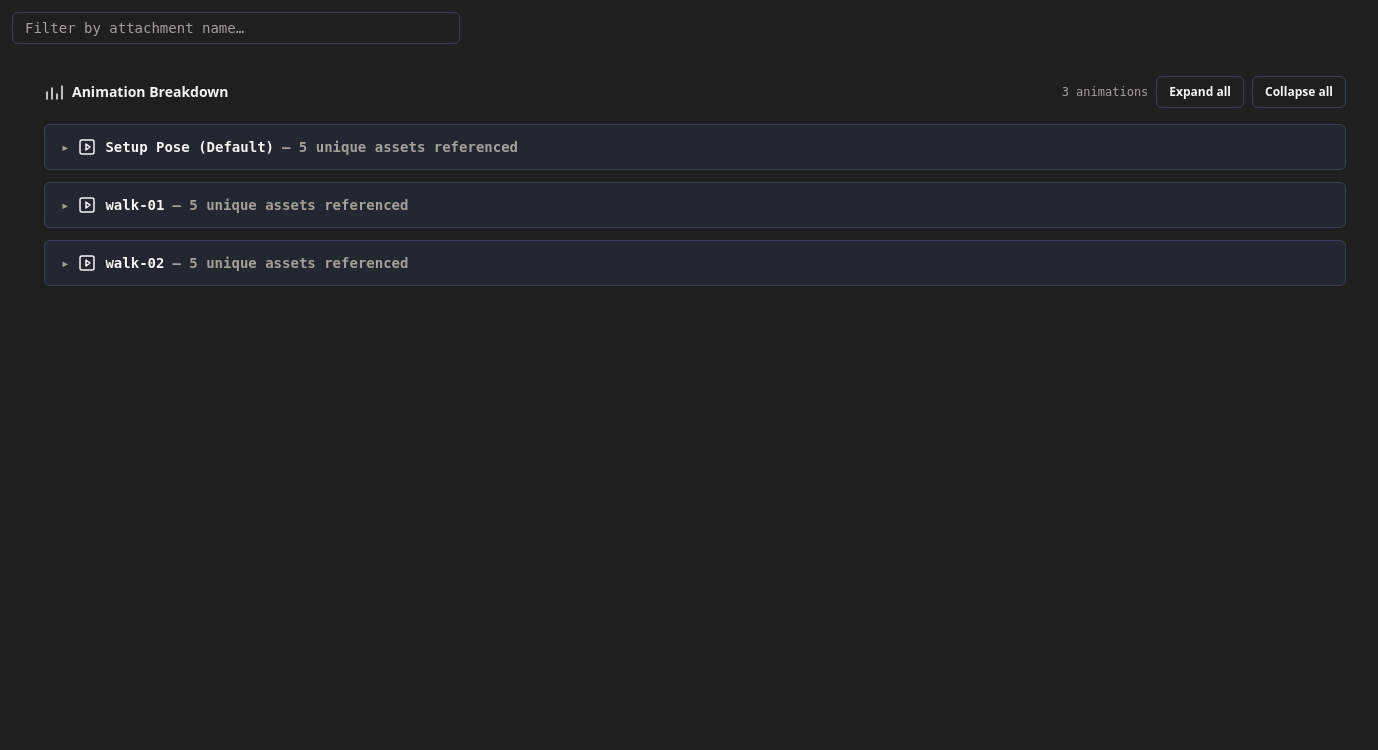
Scenario: AnimationBreakdownPanel — Phase 31 PANEL-08..11 › B4: Expand all opens every card; Collapse all closes every card
Click the button with aria-label "Expand all animation cards" at (1200, 92), box [1156,76,1244,108]
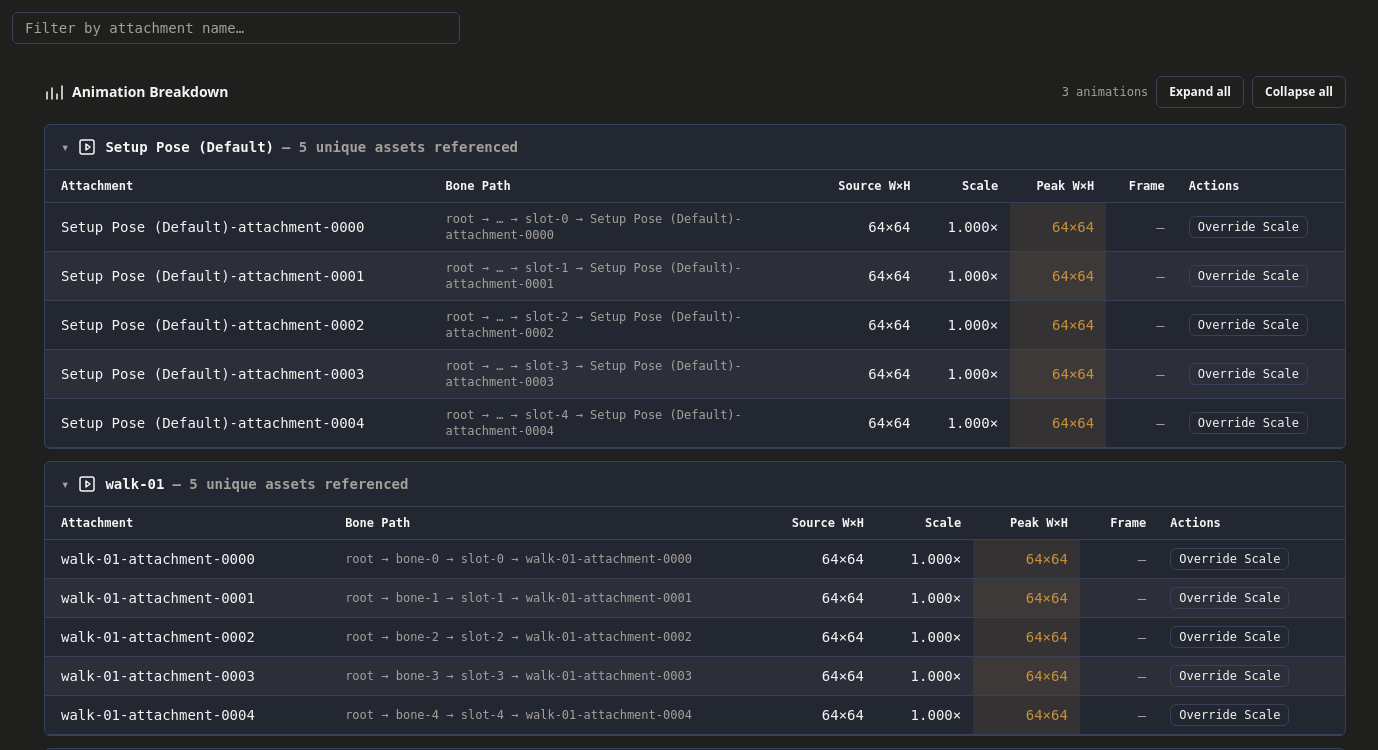
Expected: the button "▾ walk-01 — 5 unique assets referenced" is expanded, [45,462,1345,506]
Click the button with aria-label "Collapse all animation cards" at (1299, 92), box [1252,76,1346,108]
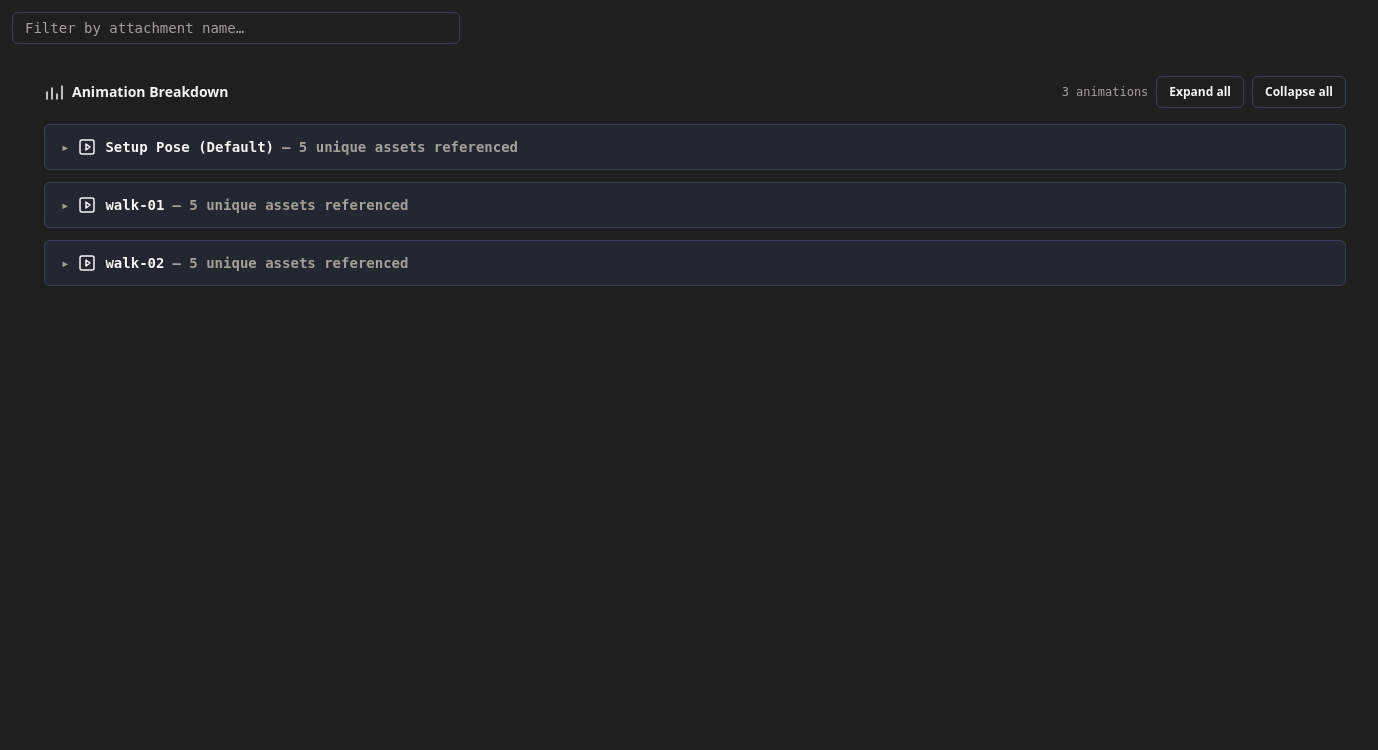
Expected: the button "▸ walk-01 — 5 unique assets referenced" is collapsed, [45,183,1345,227]
Expected: the button "▸ walk-02 — 5 unique assets referenced" is collapsed, [45,241,1345,285]
